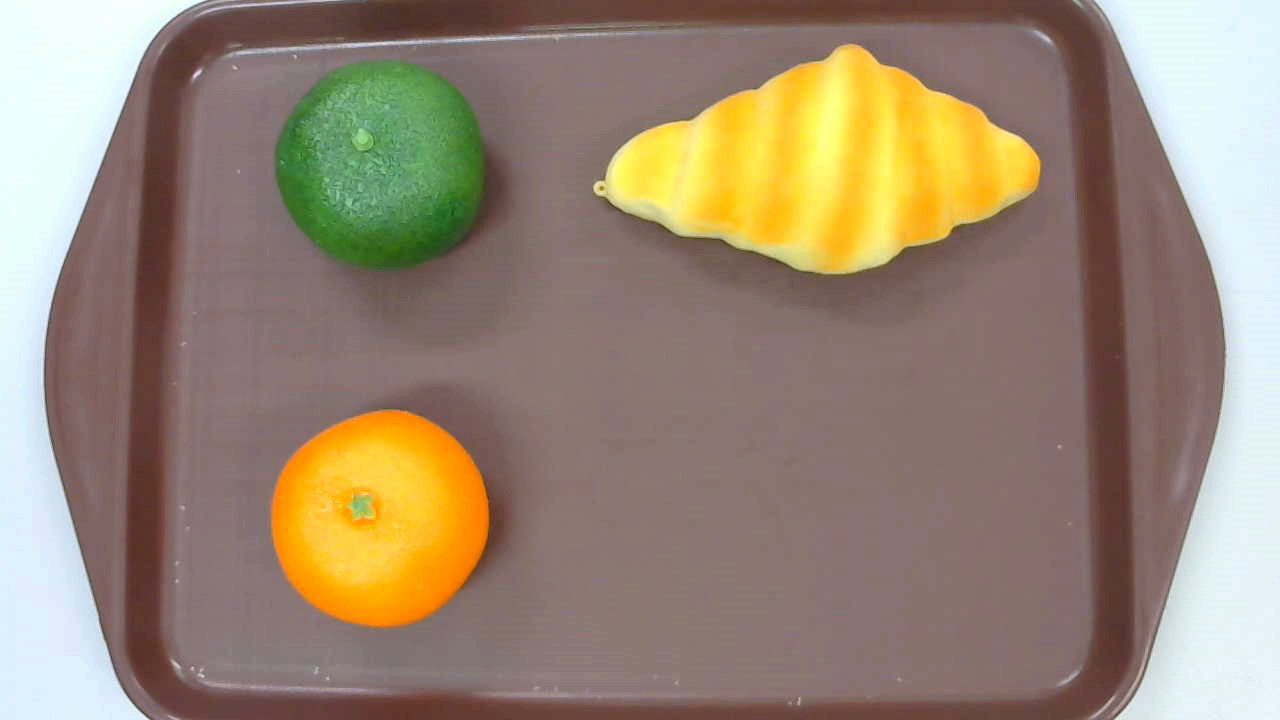croissant: (592, 44, 1041, 277)
green orange: (275, 59, 487, 269)
orange: (271, 408, 490, 628)
